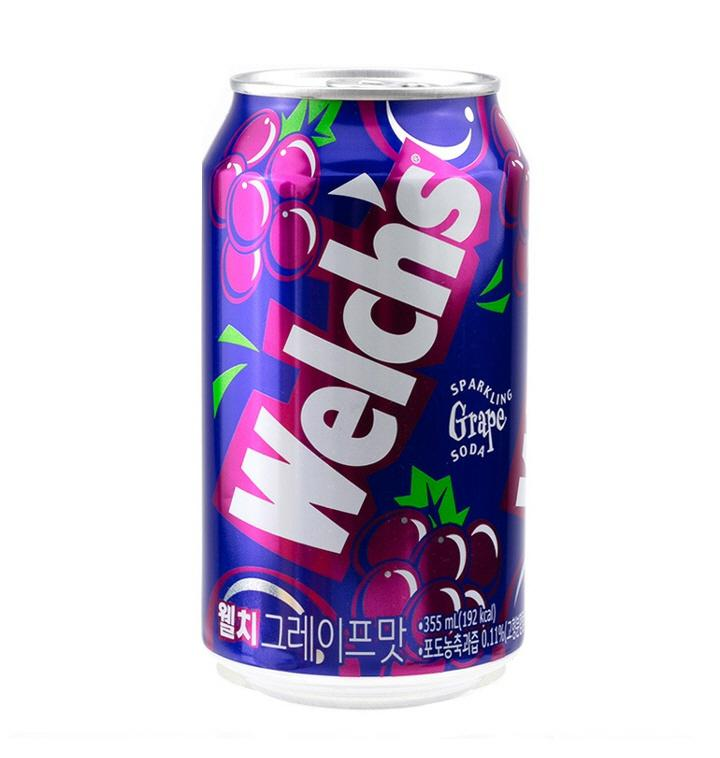welchs_grape: (204, 68, 540, 696)
